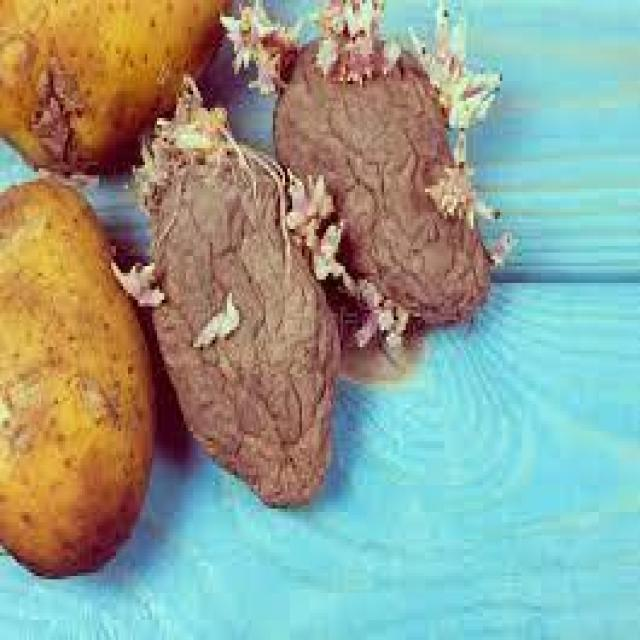potato: (0, 178, 155, 580)
